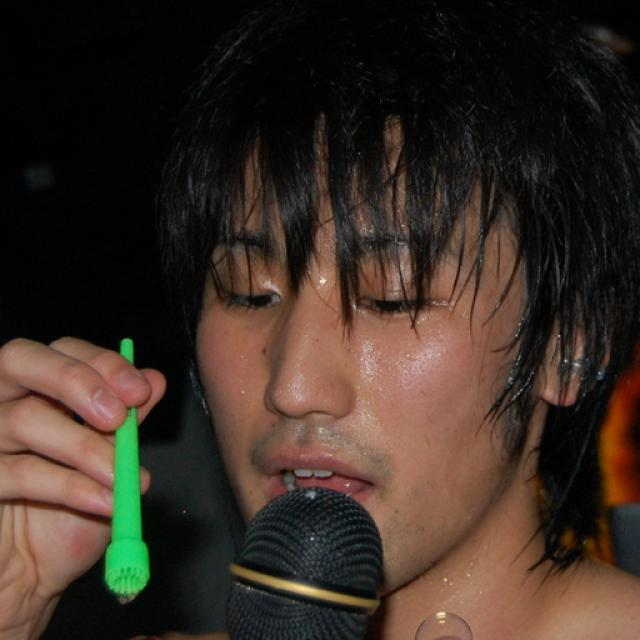neutral: (191, 104, 521, 590)
